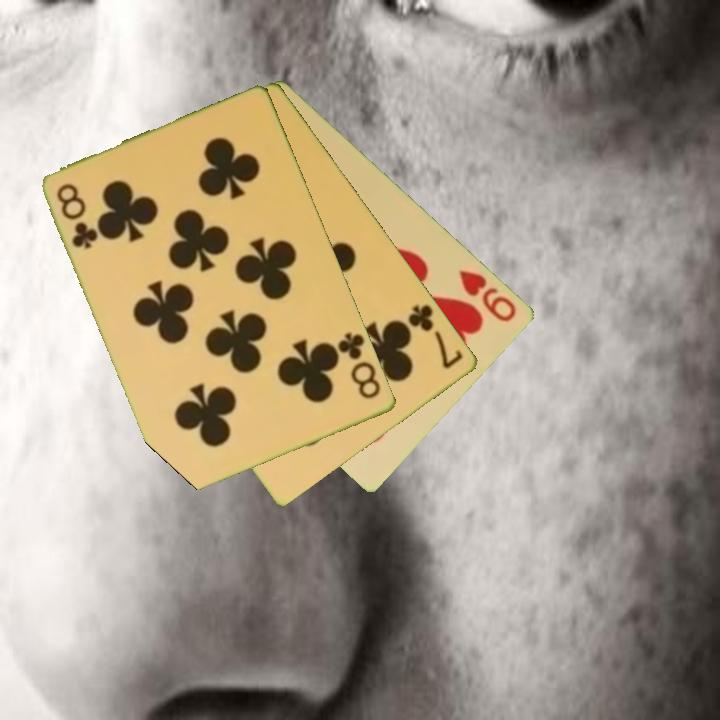7c: (404, 300, 466, 373)
8c: (331, 329, 384, 402), (54, 180, 102, 252)
9h: (455, 265, 520, 325)
